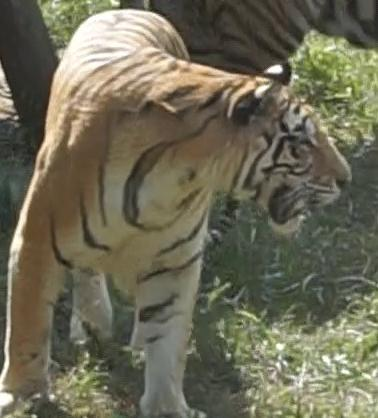tiger: (0, 1, 350, 417)
